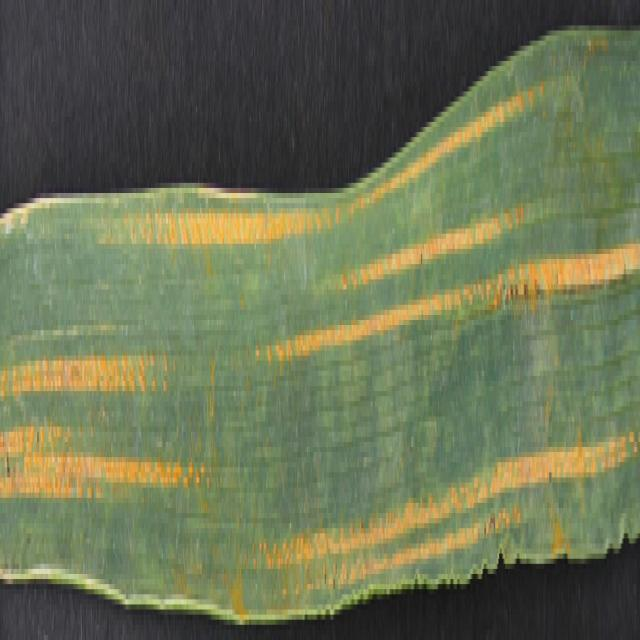leaf rust: (254, 86, 640, 610), (0, 300, 214, 569), (138, 153, 253, 290)
